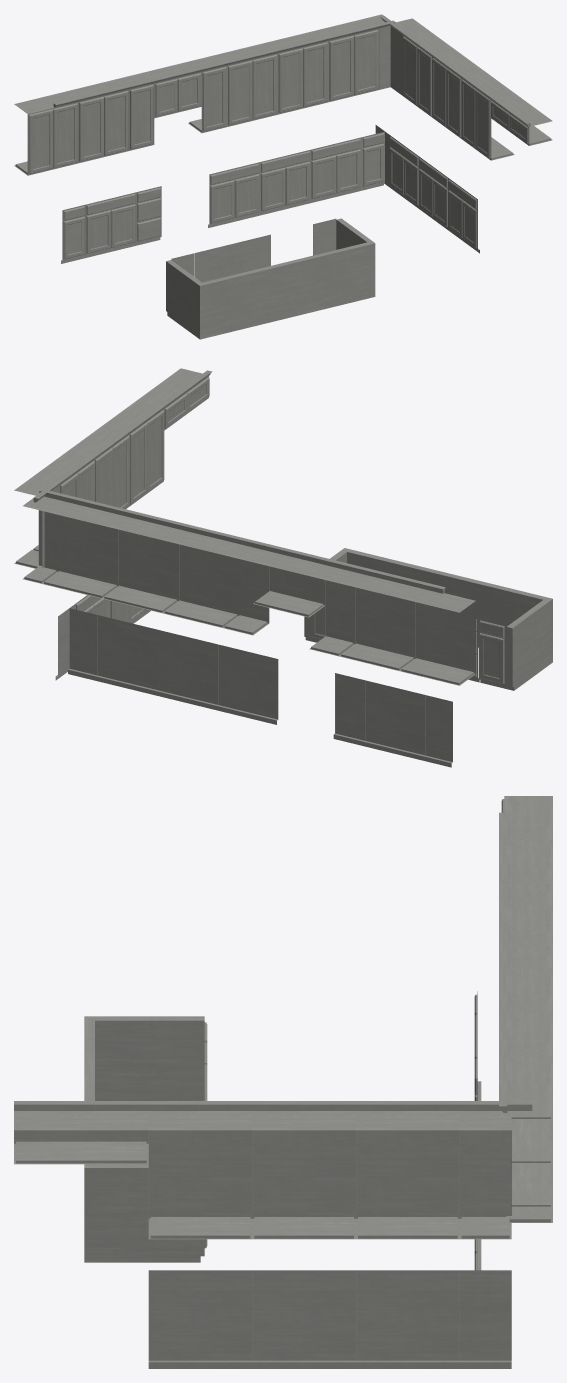
The model's file is 1989_kitchen_cabinets_bolder.gltf.
3 views of the same model, one above another, from view 1: azimuth 30°, elevation 25°; view 2: azimuth 150°, elevation 25°; view 3: azimuth 270°, elevation 25° (orthographic). The views are drawn at different scales.
Parts seen in each view (by area): view 1: Line23387; view 2: Line23387; view 3: Line23387.
Boxes of the visible parts, box(x1,y1,x2,y2) form: Line23387: box(14, 14, 552, 339); Line23387: box(14, 368, 552, 767); Line23387: box(14, 796, 552, 1368).
Bounding box in the file's own units: 7.63 × 2.93 × 5.2.
Materials: 1 (1 with a texture image).
